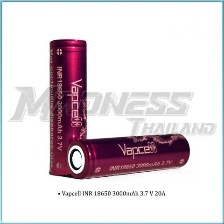battery: (64, 132, 197, 184), (44, 33, 91, 180)
